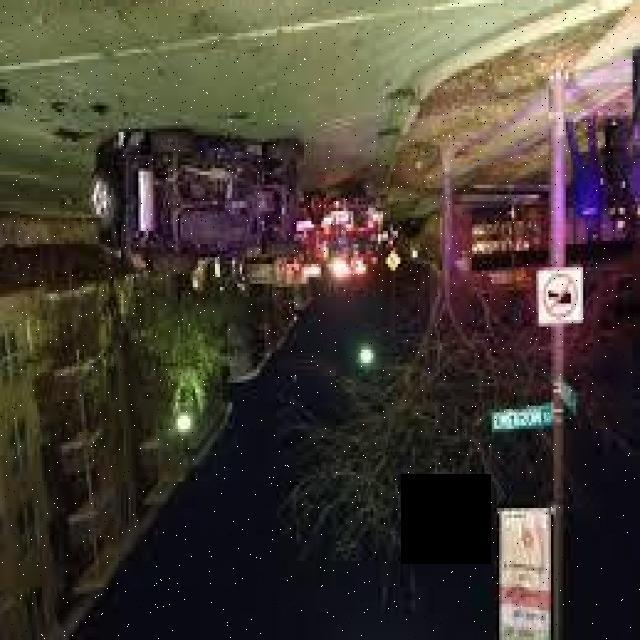severe: (86, 132, 314, 277)
